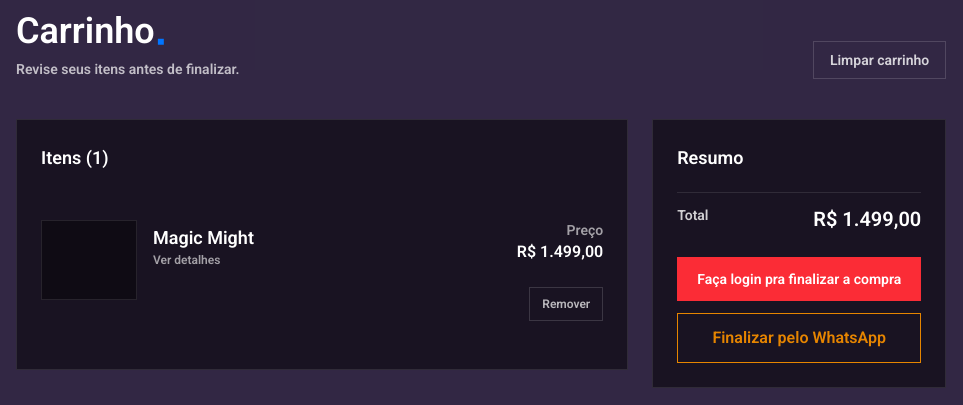
Test case: CartPage (integration) › itens no carrinho: botão Limpar carrinho limpa UI e storage
expect the heading "Itens (1)" is shown: met, box [41,146,109,168]
Click the button "Limpar carrinho" at point(880, 60), box [813,40,946,78]
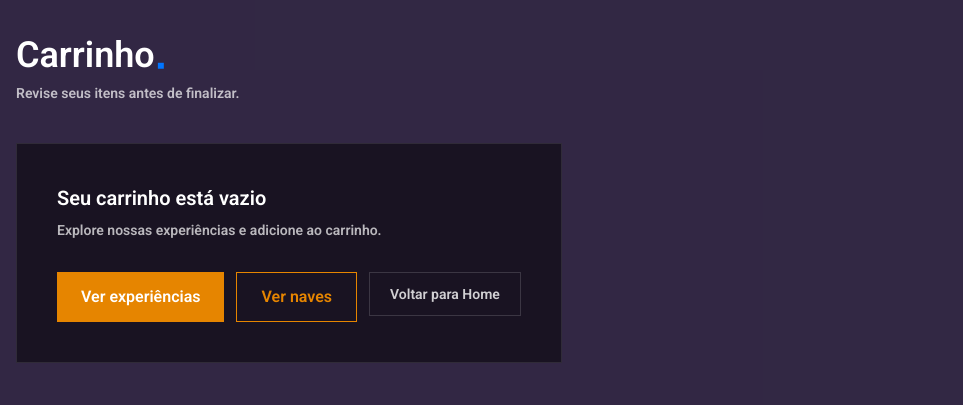
expect the heading "Seu carrinho está vazio" is shown: met, box [57,186,266,210]
